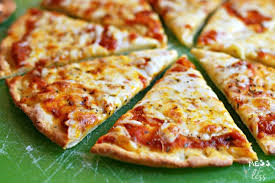pizza: (5, 52, 275, 173)
